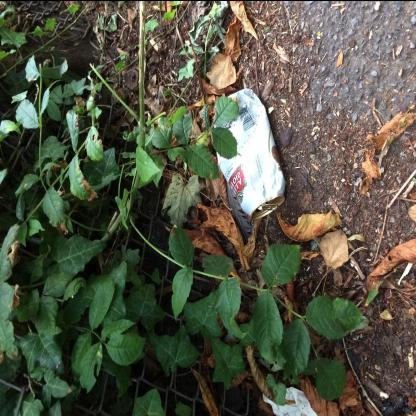metal: (214, 86, 288, 219)
